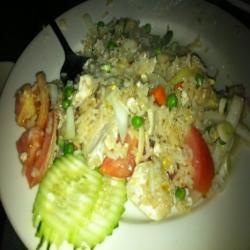rice: (76, 28, 208, 172)
